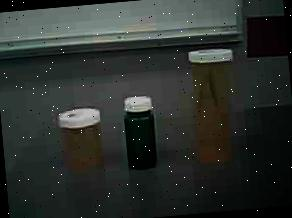Bottle A: (178, 41, 250, 174)
Bottle B: (52, 98, 112, 180)
Bottle C: (114, 86, 168, 180)
